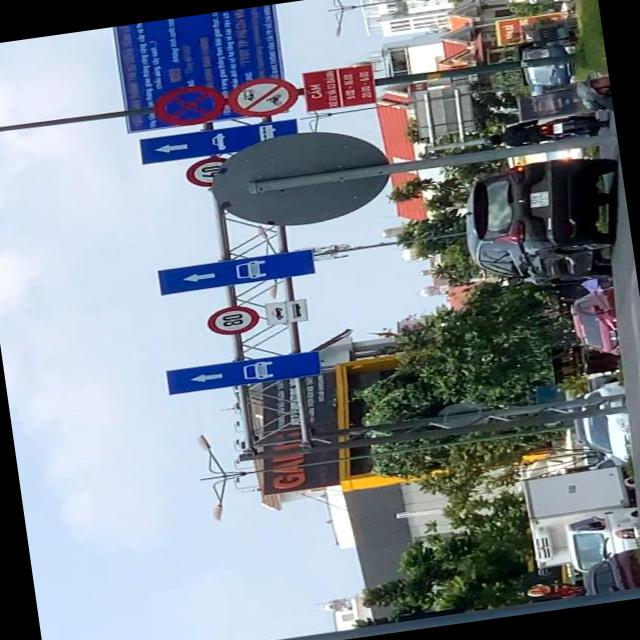P-104: (224, 72, 299, 120)
P-130: (151, 80, 227, 128)
